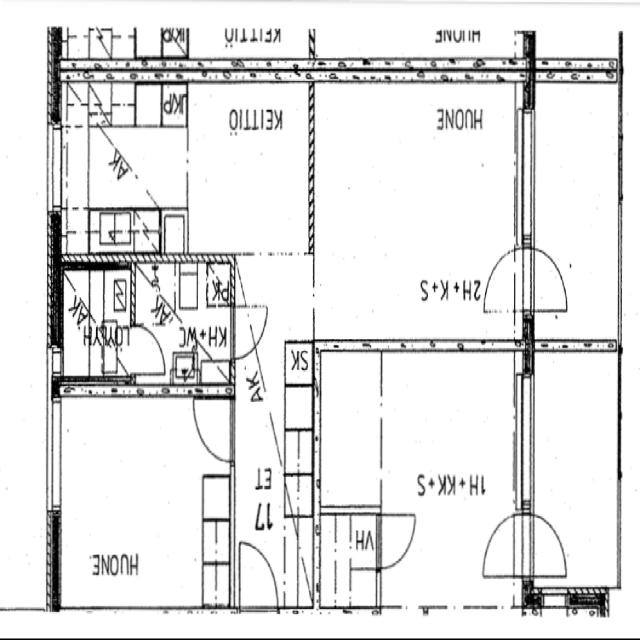door: (190, 392, 236, 470), (527, 506, 571, 584), (236, 534, 280, 612), (529, 243, 571, 316), (479, 509, 520, 582), (376, 507, 419, 572), (484, 244, 522, 314), (127, 322, 168, 382), (231, 296, 268, 359), (310, 278, 334, 317)
window: (514, 371, 538, 516), (516, 107, 538, 251), (43, 396, 65, 517), (44, 119, 68, 223)
zone: (314, 85, 523, 350), (54, 393, 226, 606), (381, 347, 523, 580), (528, 75, 622, 346), (528, 345, 622, 591), (60, 81, 190, 256), (188, 85, 312, 255), (138, 258, 234, 389), (315, 351, 382, 514), (58, 265, 133, 383), (317, 513, 381, 611), (235, 535, 281, 615)
